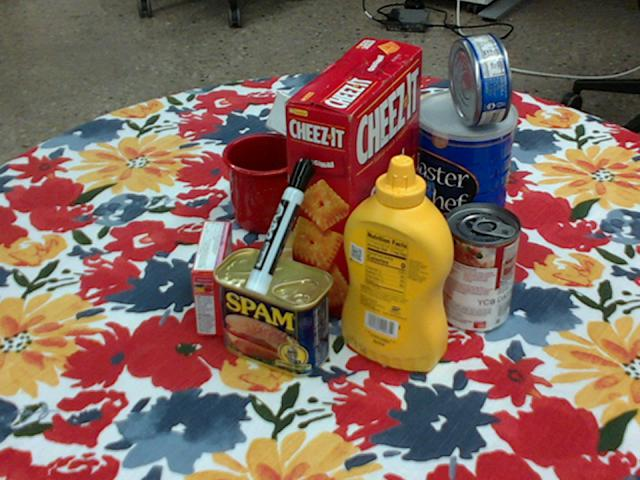cracker_box: (284, 37, 423, 319)
gelatin_box: (192, 219, 233, 335)
large_marker: (245, 156, 314, 294)
master_chef_can: (411, 90, 516, 254)
mug: (223, 132, 332, 234)
mustard_bottle: (341, 154, 454, 372)
potted_meat_can: (214, 248, 333, 377)
sugar_box: (267, 92, 426, 189)
tomato_soup_can: (439, 203, 521, 333)
tuna_fish_can: (447, 33, 512, 125)
